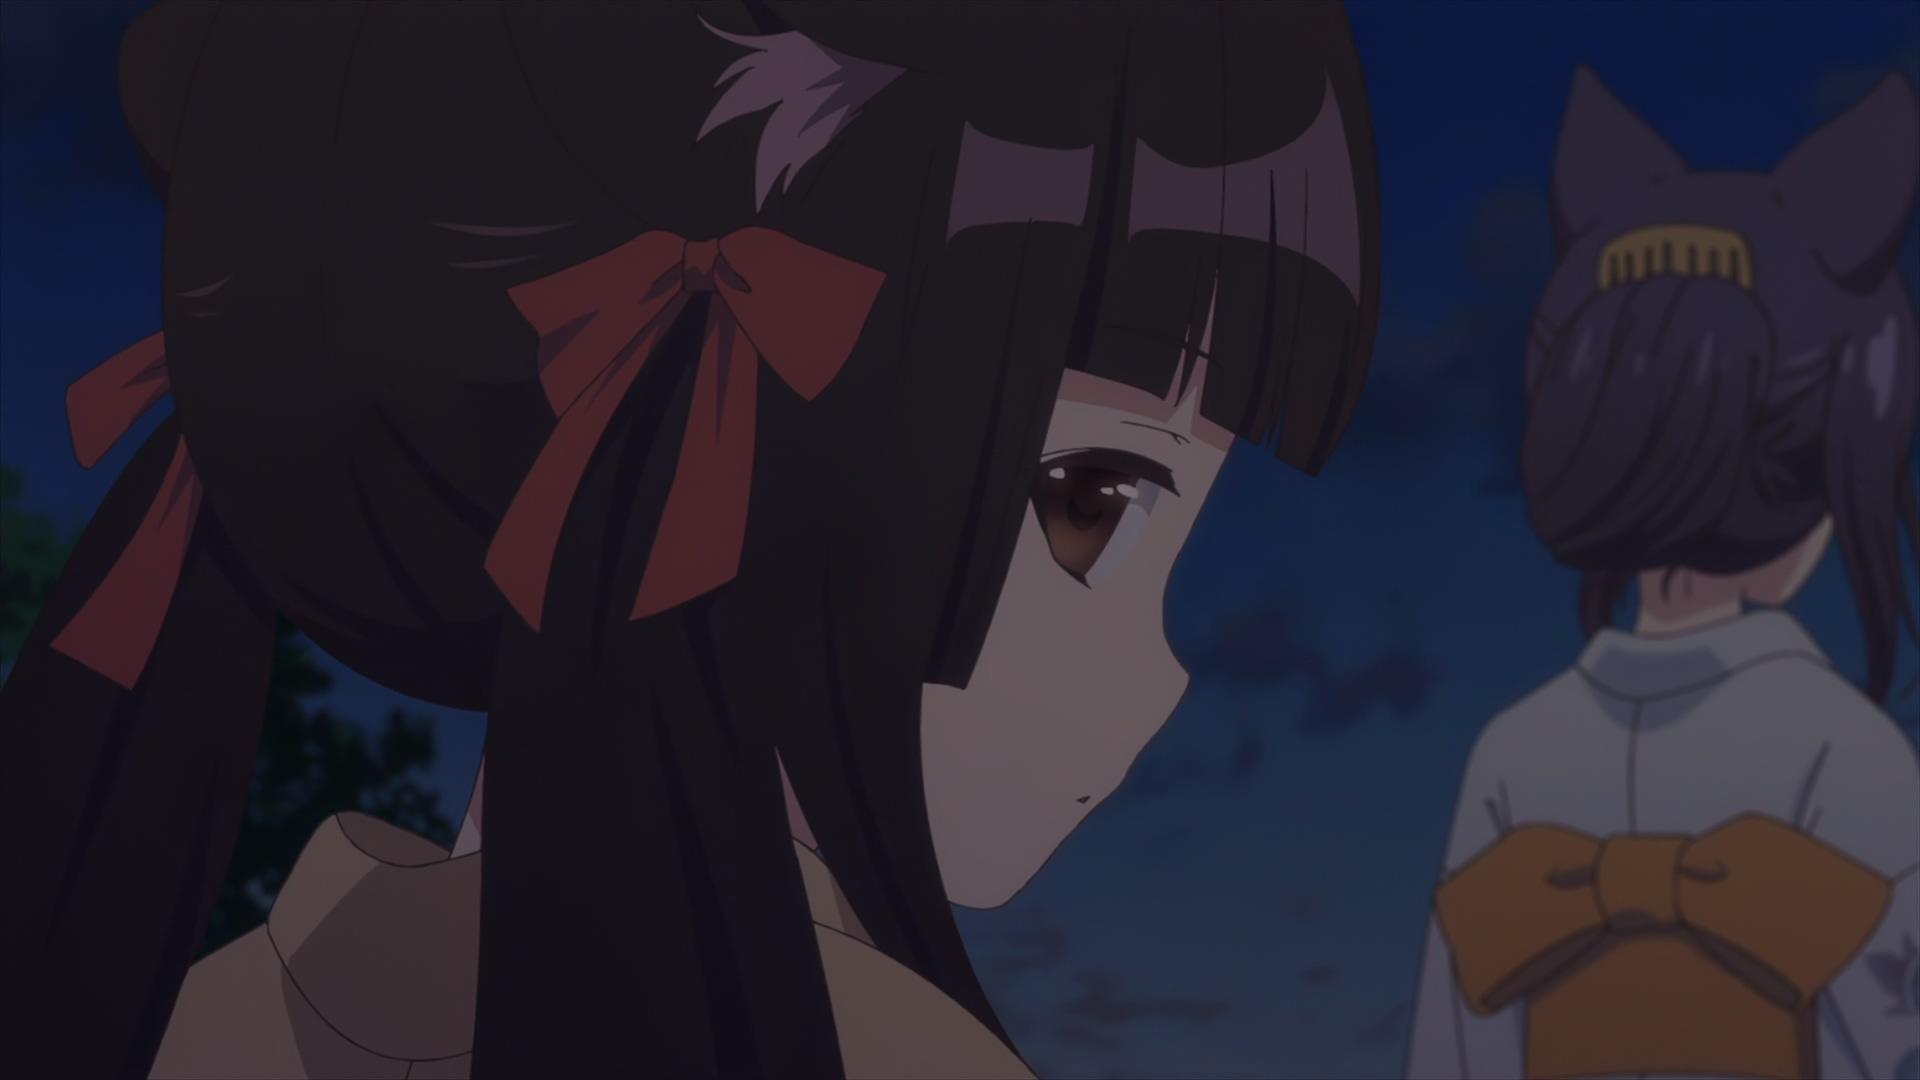樱: (1, 1, 1378, 1080)
皋: (1410, 65, 1920, 1080)
